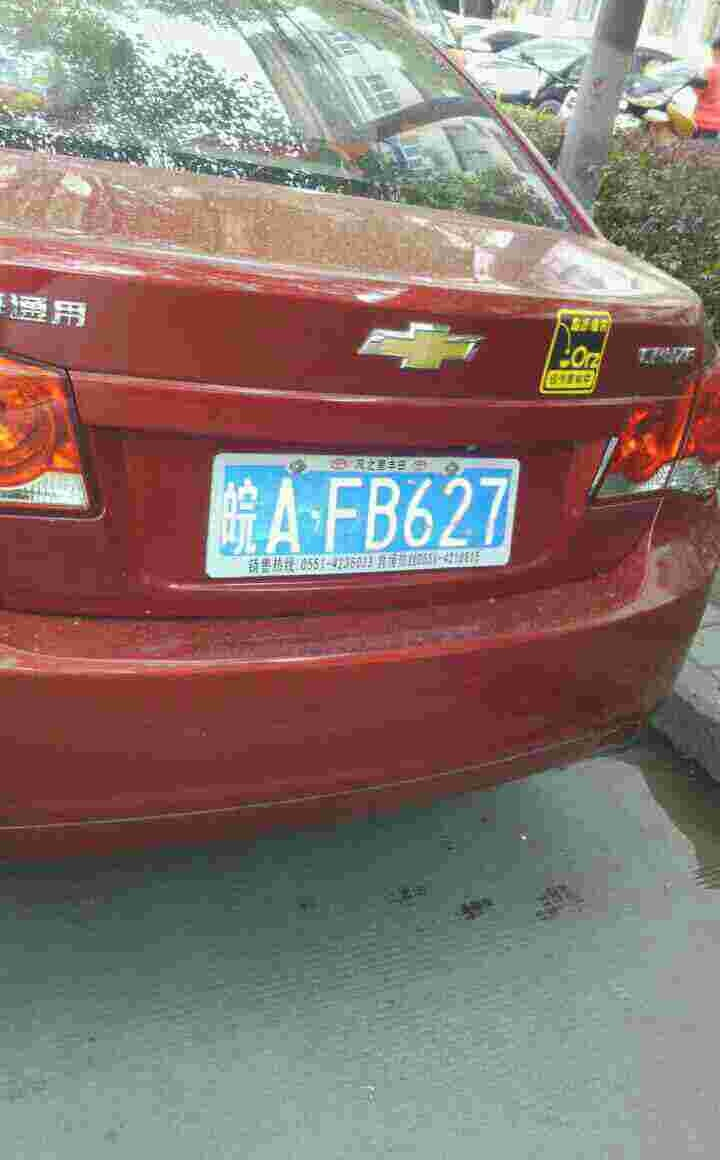license_plate: (213, 463, 508, 574)
